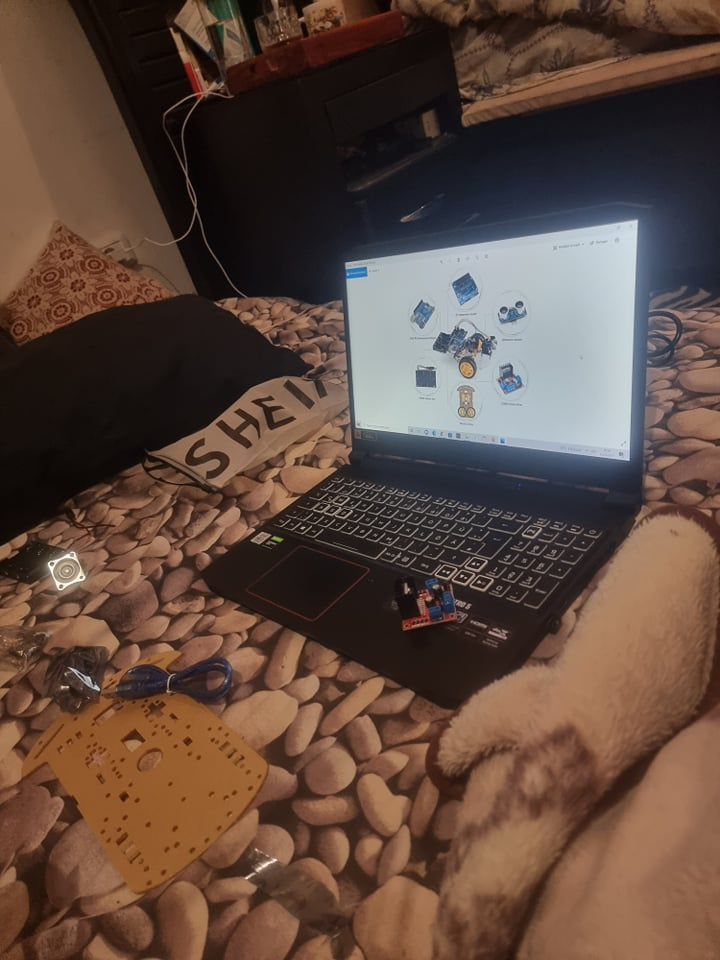5V EXPANSION: (451, 272, 479, 305)
BATTERY BOX: (1, 535, 56, 588), (414, 371, 436, 388)
MOTOR: (389, 569, 460, 631), (495, 363, 526, 395)
SENSOR: (496, 303, 529, 323)
UNO R3: (408, 299, 435, 330)
